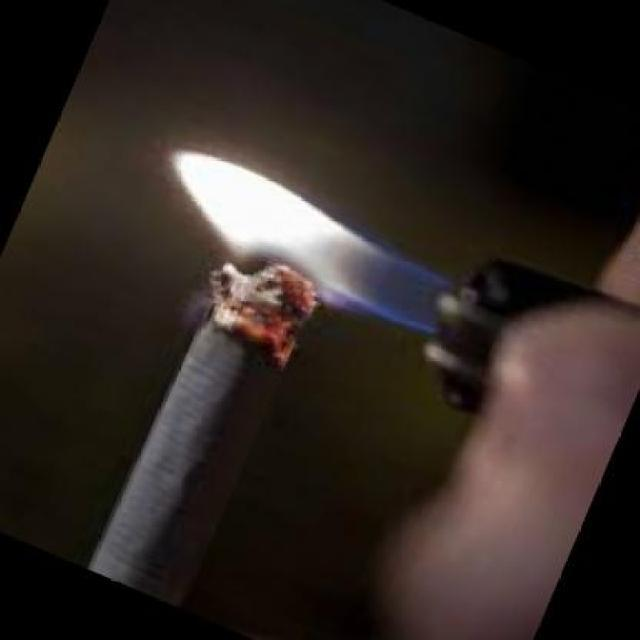Fire: (163, 148, 448, 322)
